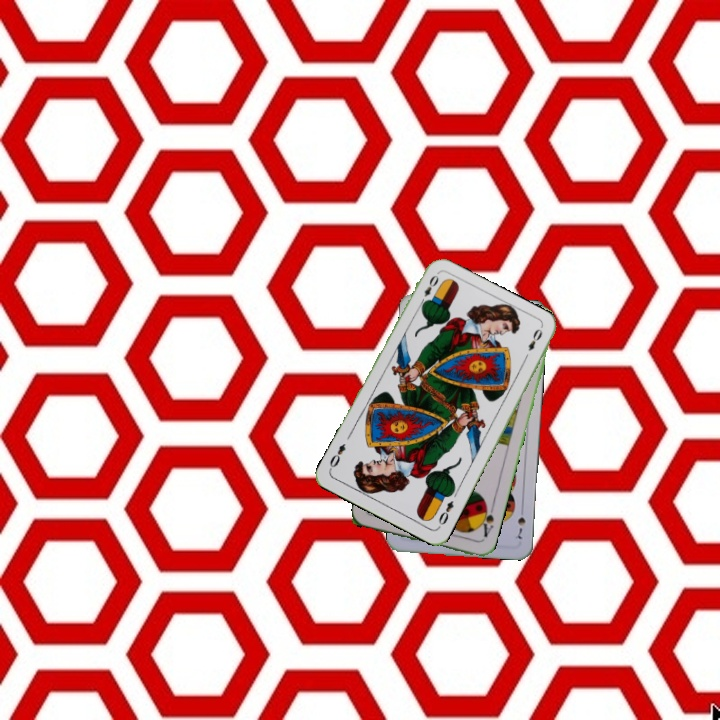EO: (416, 271, 441, 308), (434, 496, 456, 527)
S7: (513, 503, 528, 542)
SA: (475, 502, 496, 540)
